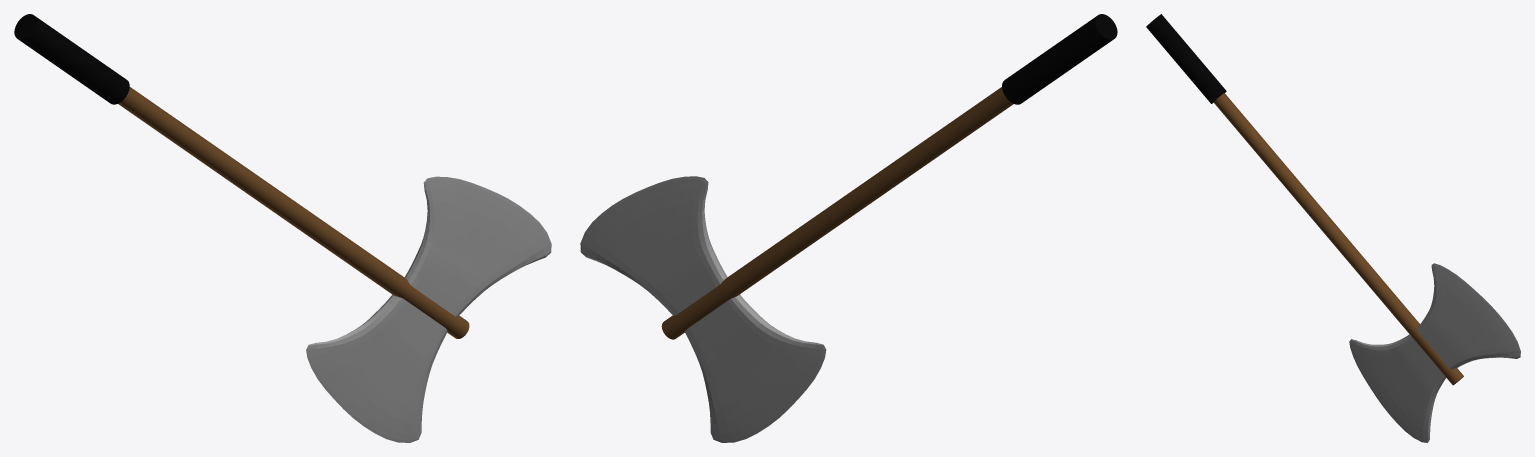
File: Axe.fbx
3 views of the same model, side by side, from view 1: azimuth 30°, elevation 25°; view 2: azimuth 150°, elevation 25°; view 3: azimuth 330°, elevation 25° (orthographic). The views are drawn at different scales.
Parts seen in each view (by area): view 1: Axe; view 2: Axe; view 3: Axe.
Boxes of the visible parts, box(x1,y1,x2,y2) form: Axe: box(14, 14, 551, 442); Axe: box(580, 14, 1117, 442); Axe: box(1146, 14, 1520, 442).
Size of the model in its own units: 753 by 700 by 35.29.
